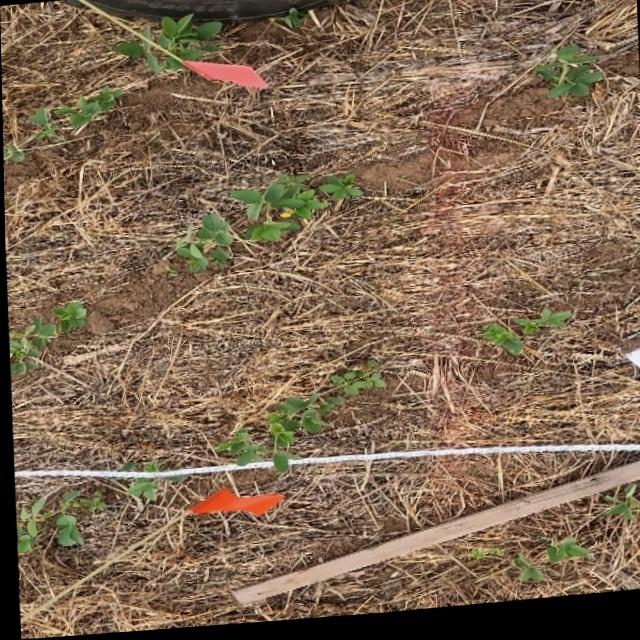soy_plant: (214, 367, 383, 476), (229, 178, 360, 246), (113, 17, 221, 75), (7, 302, 83, 374), (13, 492, 100, 554), (27, 88, 122, 140), (533, 53, 601, 107), (173, 217, 232, 274), (601, 492, 640, 529), (511, 318, 568, 343), (479, 330, 520, 362), (540, 546, 584, 572), (121, 480, 153, 503), (510, 564, 540, 588), (3, 143, 19, 160)
